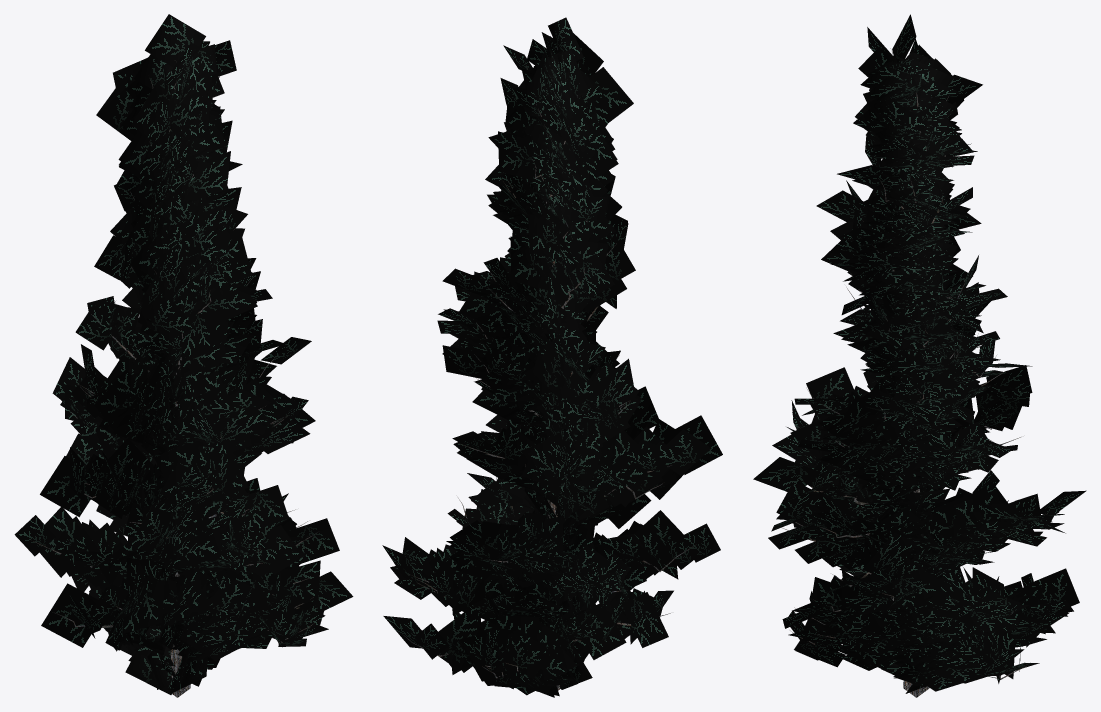
The model's file is WhiteSpruce LFD V1.glb.
3 views of the same model, side by side, from view 1: azimuth 30°, elevation 25°; view 2: azimuth 150°, elevation 25°; view 3: azimuth 270°, elevation 25° (orthographic).
Visible parts, largest first — view 1: White Spruce 1 Fixed Normals; view 2: White Spruce 1 Fixed Normals; view 3: White Spruce 1 Fixed Normals.
Boxes of the visible parts, left/top/right/bottom form: White Spruce 1 Fixed Normals: left=14, top=14, right=353, bottom=697; White Spruce 1 Fixed Normals: left=382, top=17, right=722, bottom=697; White Spruce 1 Fixed Normals: left=753, top=14, right=1086, bottom=697.
Bounding box in the file's own units: 9.92 × 24.51 × 11.02.
Materials: 2 (2 with a texture image).
